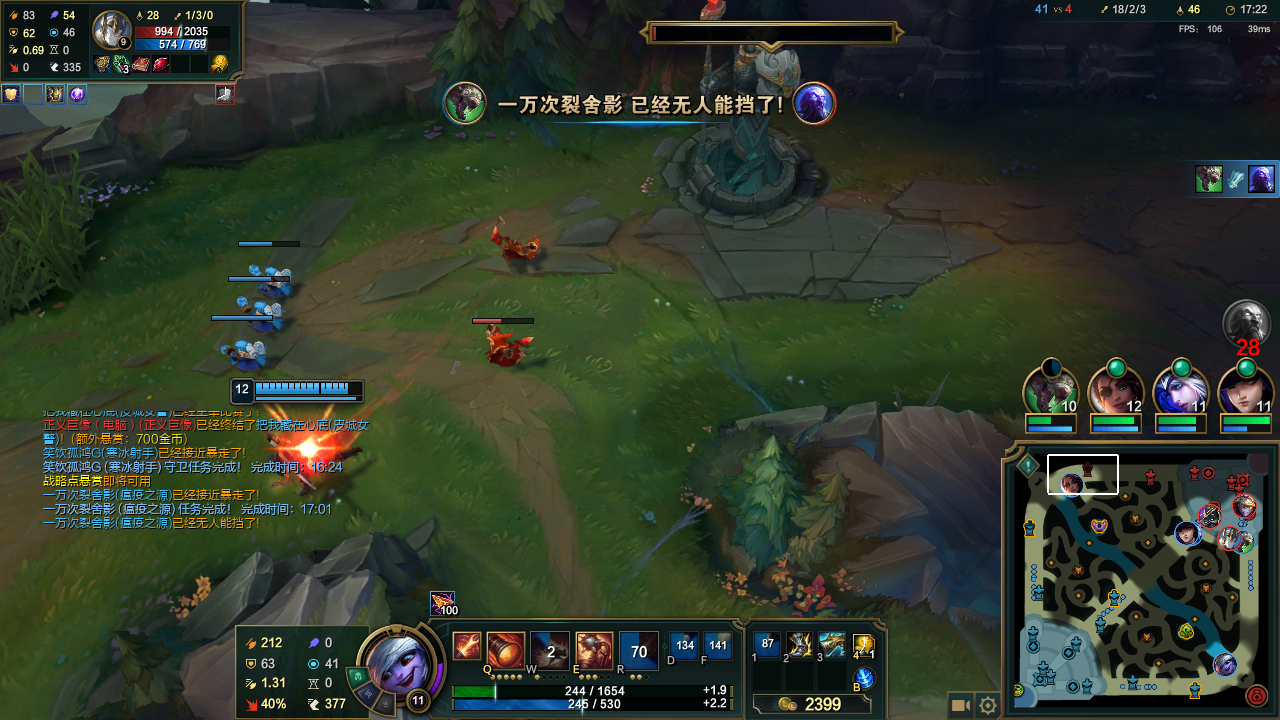DFFYT: (687, 48, 820, 207)
DFXB: (478, 322, 541, 369)
WFXB: (217, 334, 275, 378), (243, 258, 297, 304), (234, 291, 280, 336)
